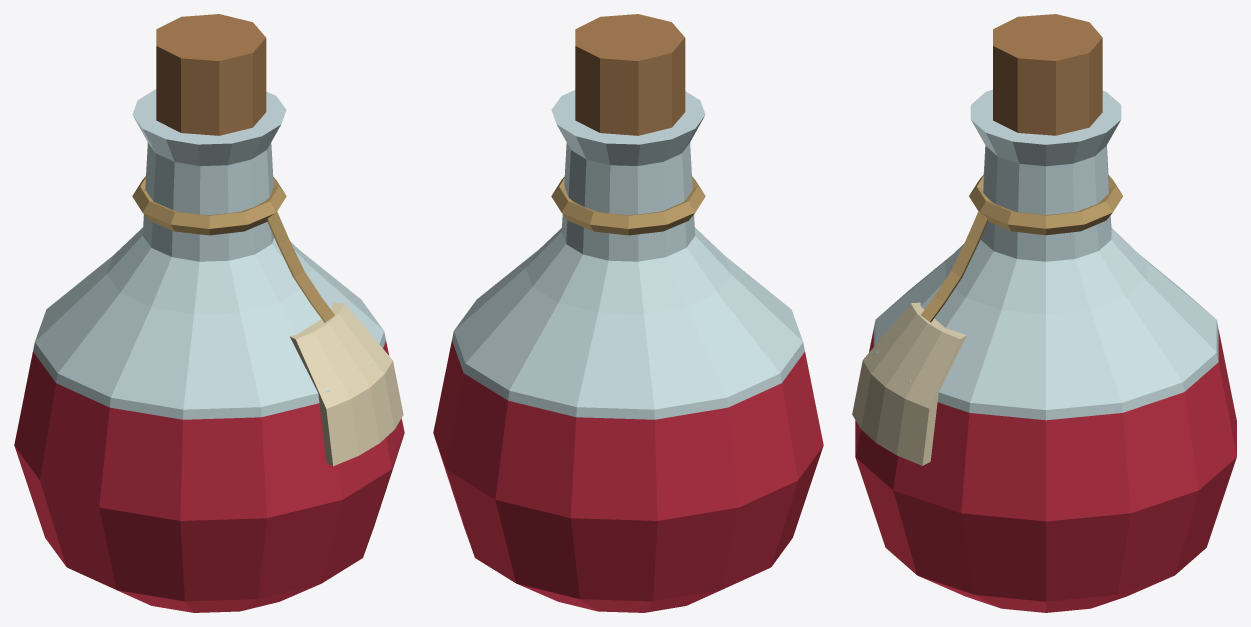
Rendered from mdvl_food_potion_01.glb.
3 renders of one model, left to right at view 1: azimuth 30°, elevation 25°; view 2: azimuth 150°, elevation 25°; view 3: azimuth 270°, elevation 25°, orthographic.
Visible parts, largest first — view 1: mdvl_food_potion_01; view 2: mdvl_food_potion_01; view 3: mdvl_food_potion_01.
Boxes of the visible parts, box(x1,y1,x2,y2) form: mdvl_food_potion_01: box(14, 14, 404, 612); mdvl_food_potion_01: box(433, 14, 823, 612); mdvl_food_potion_01: box(852, 14, 1236, 612).
Bounding box in the file's own units: 0.076 × 0.114 × 0.0747.
1 material, 1 textured.
